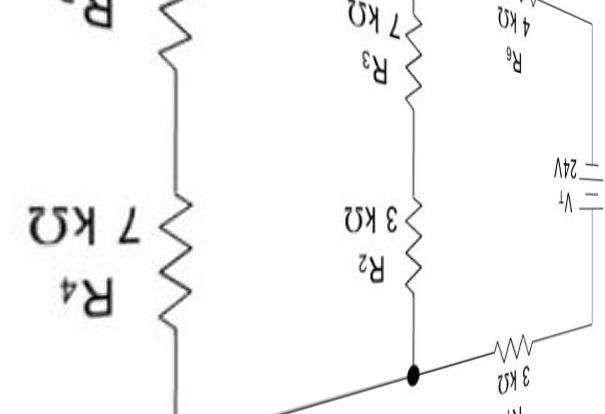resistor: (143, 182, 221, 360), (403, 180, 437, 301), (398, 1, 437, 103), (478, 313, 537, 359)
